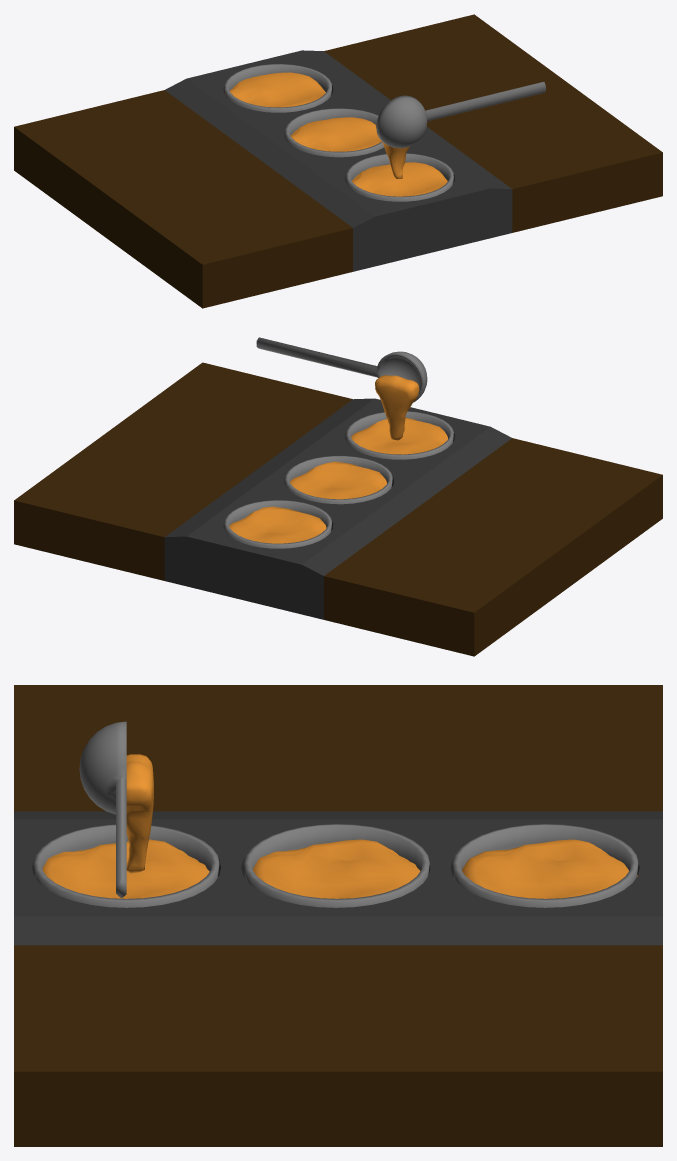
The model's file is ARPalmitas_trapiche.fbx.
3 views of the same model, one above another, from view 1: azimuth 30°, elevation 25°; view 2: azimuth 150°, elevation 25°; view 3: azimuth 270°, elevation 25° (orthographic). The views are drawn at different scales.
Parts seen in each view (by area): view 1: Roundcube; view 2: Roundcube; view 3: Roundcube.
Boxes of the visible parts, x1=… form: Roundcube: x1=14, y1=14, x2=662, y2=308; Roundcube: x1=14, y1=337, x2=662, y2=656; Roundcube: x1=14, y1=685, x2=662, y2=1146.
Size of the model in its own units: 1985 by 545 by 1408.
